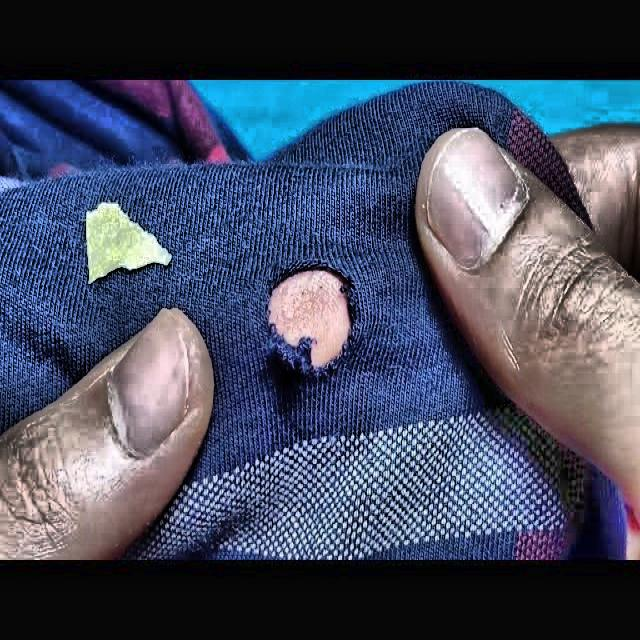Hole: (238, 248, 382, 396)
